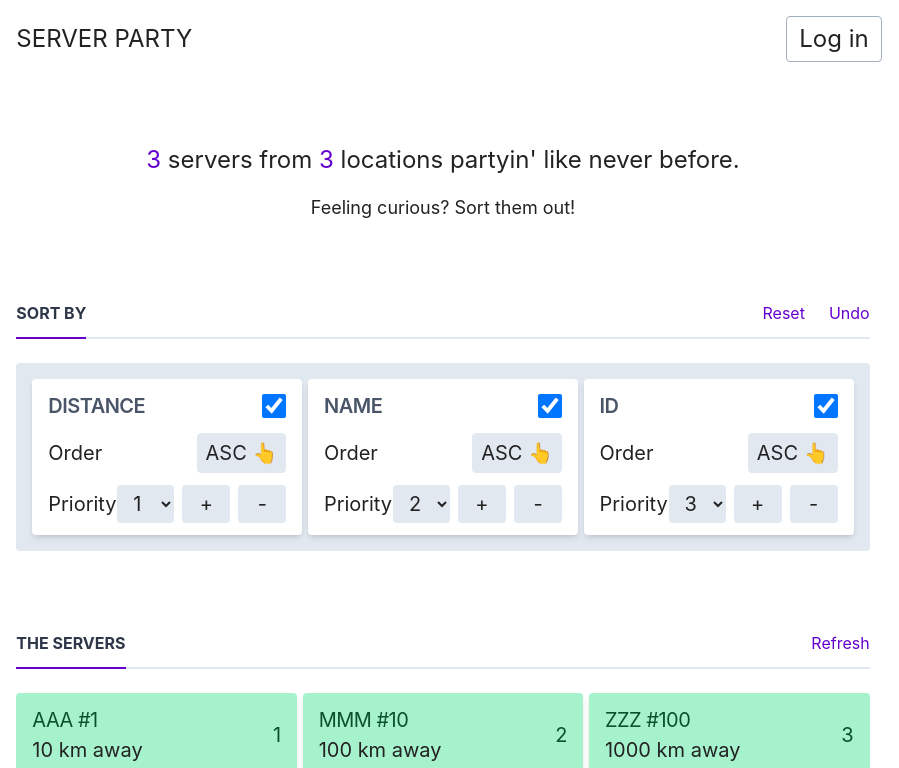
Test: Party sorting › Priority › Can increment the priority
This screenshot has width=899, height=768.
Expected: the dropdown with test id "priority--nth-1" shows "1", [117,485,174,523]
Expected: the dropdown with test id "priority--nth-2" shows "2", [393,485,450,523]
Click the button with test id "priority--nth-1--incr".
click(206, 504)  # box [182,485,230,523]
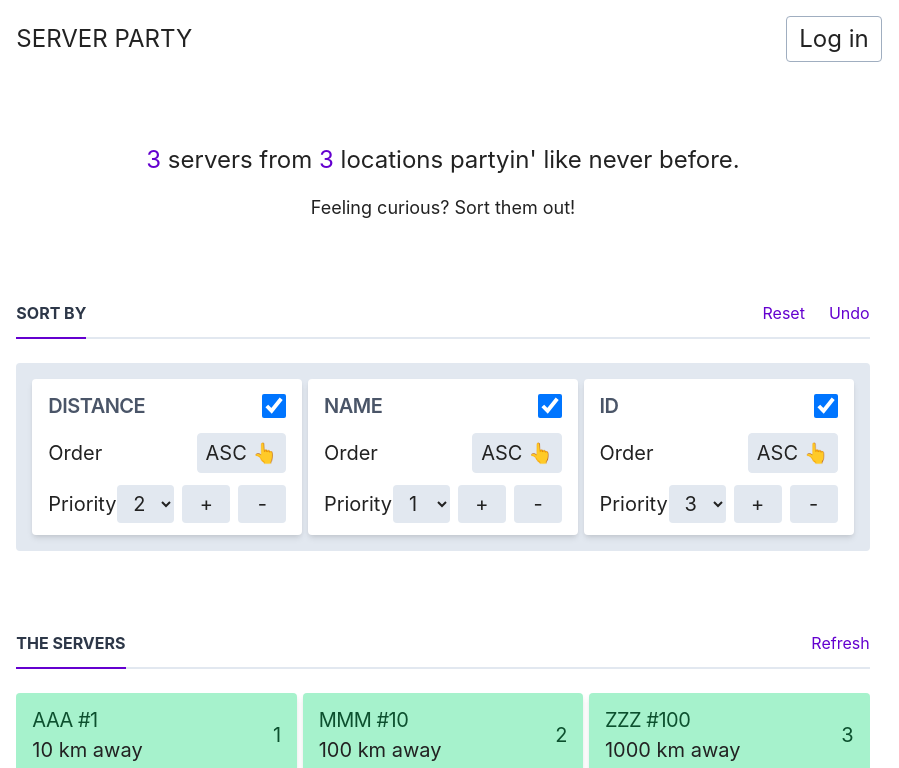
Expected: the text with test id "server-id--1" reads "1", [273,723,281,747]
Result: the dropdown with test id "priority--nth-1" shows "2" at [117,485,174,523]
Result: the dropdown with test id "priority--nth-2" shows "1" at [393,485,450,523]
